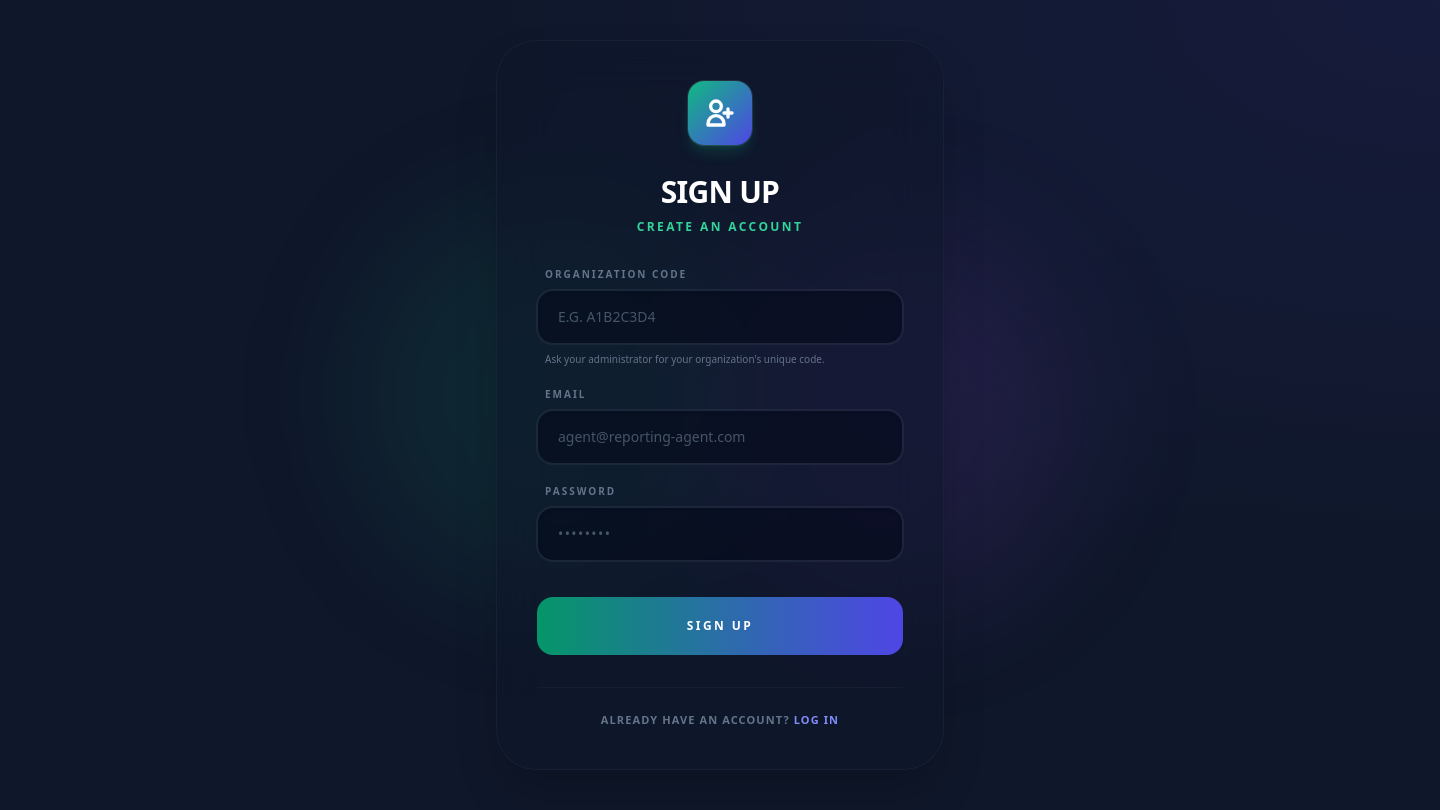
Test: Auth view unit tests › shows signup error for invalid org code
Type "BAD" into the field with placeholder "e.g. A1B2C3D4".
click(720, 317); type("BAD")  # box [537,290,903,344]
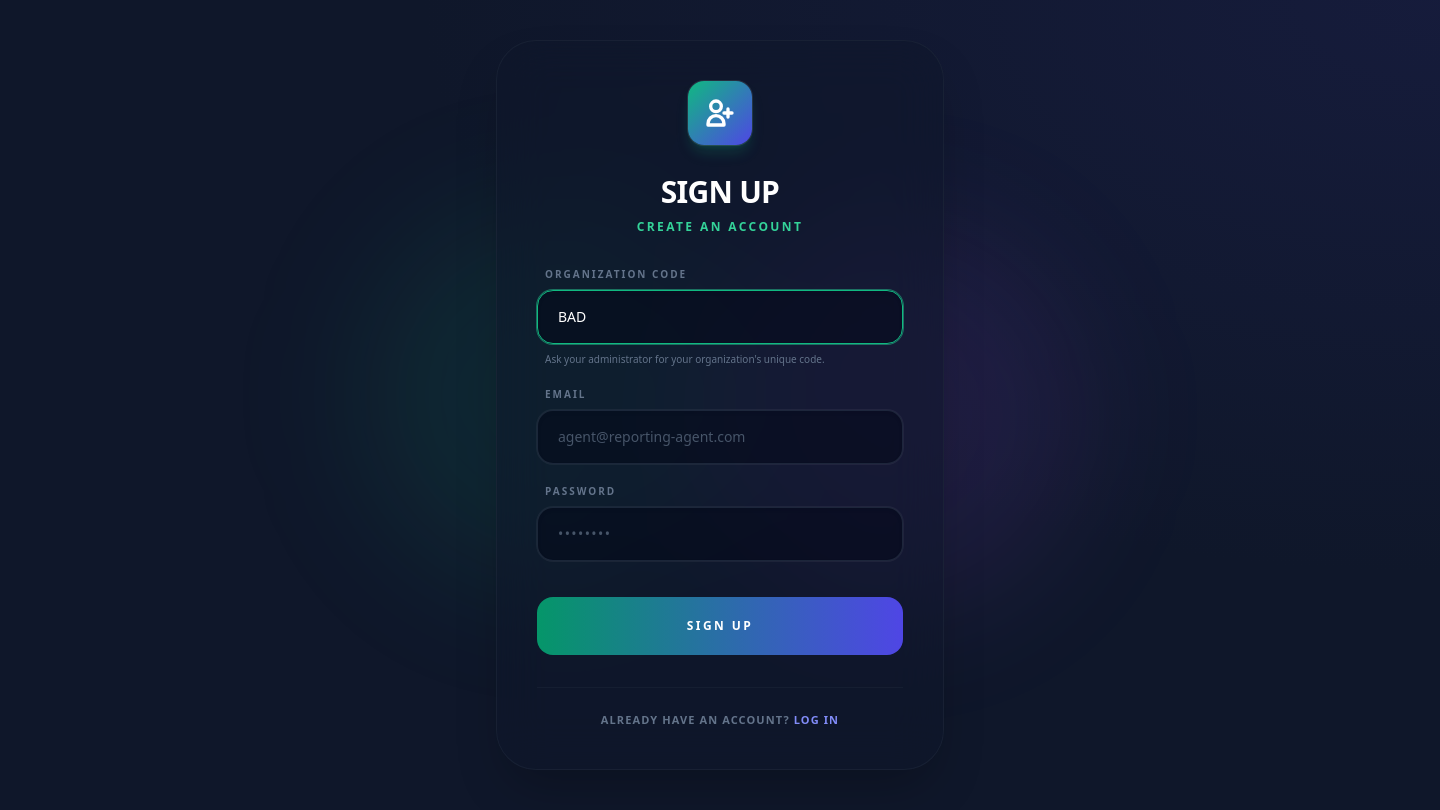
Type "member@test.com" into the field with placeholder "agent@reporting-agent.com".
click(720, 437); type("member@test.com")  # box [537,410,903,464]
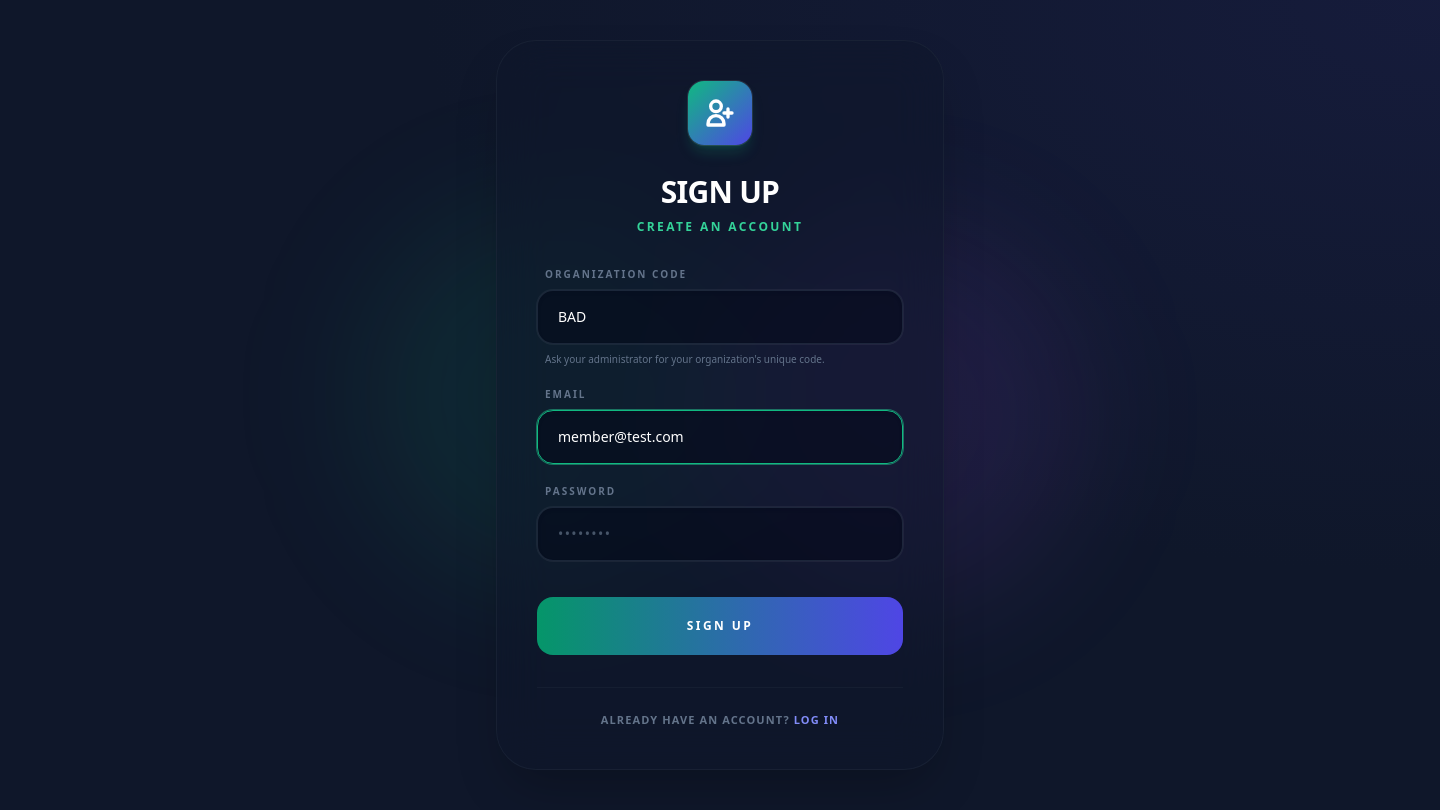
Type "password123" into the password field with placeholder "••••••••".
click(720, 534); type("password123")  # box [537,507,903,561]
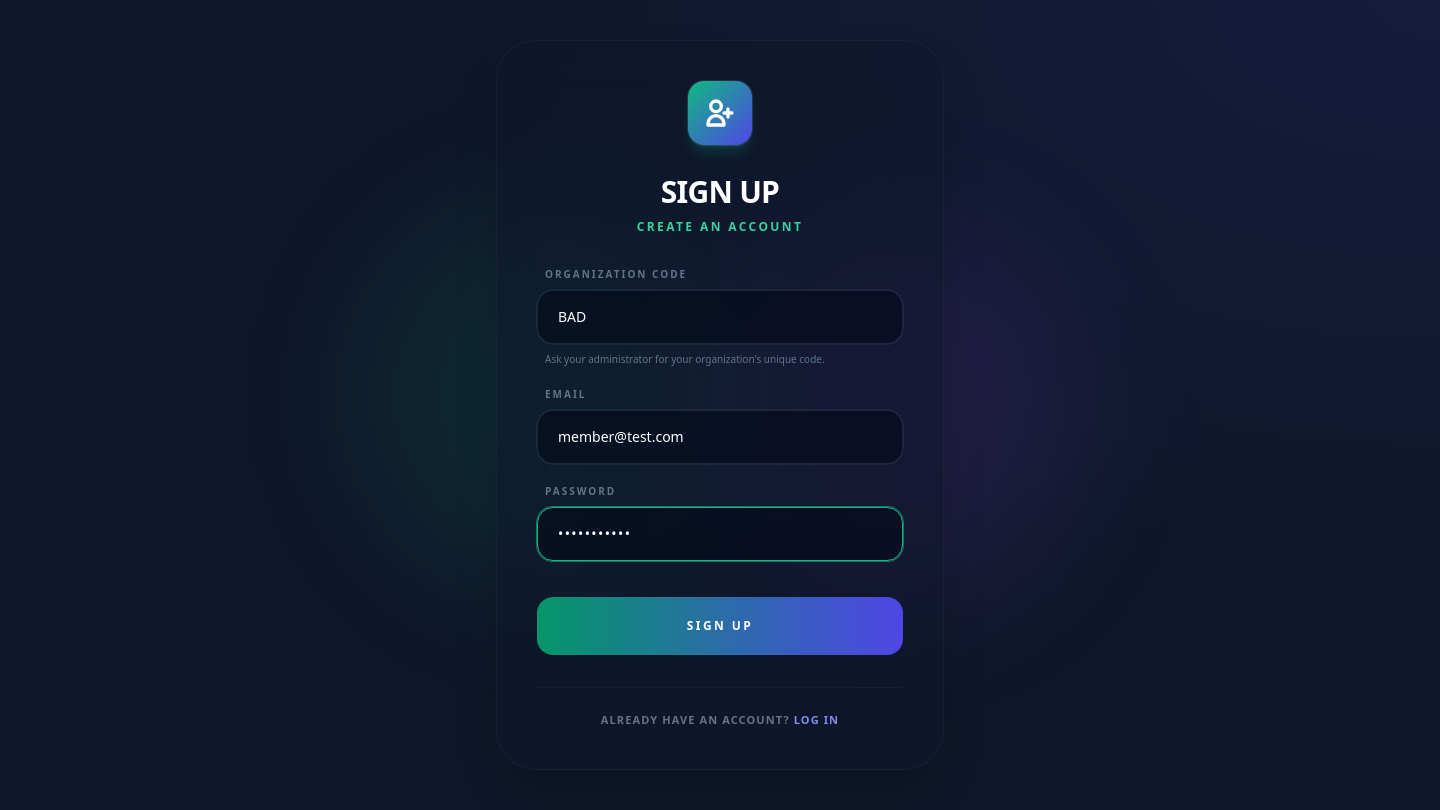
Click the button "Sign Up".
click(720, 626)  # box [537,597,903,655]
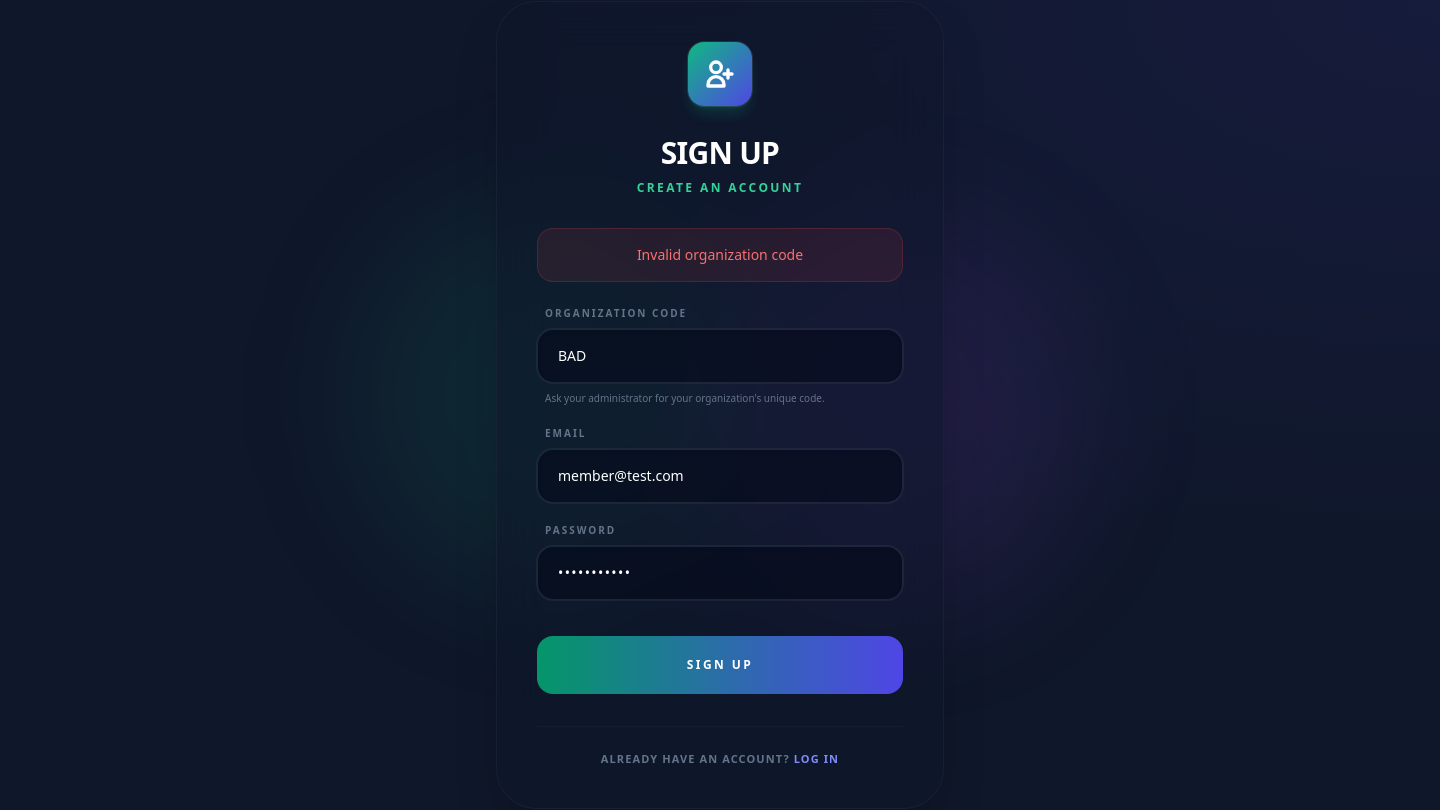
Expected: the text "Invalid organization code" is shown, [637,245,803,264]
